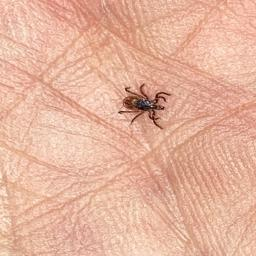Ixodes scapularis: (117, 84, 173, 130)
